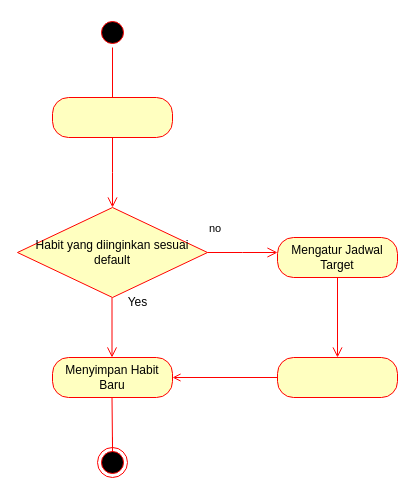
Some shapes in this 415 by 496 pixel diagram are drawn without their labels. The shapes that lost their labels are listed below. From the top down, each one's centre as x and y in pixels, then its label:
[112,117]: User Membuat Habit Baru
[337,377]: Mengatur Reminder
